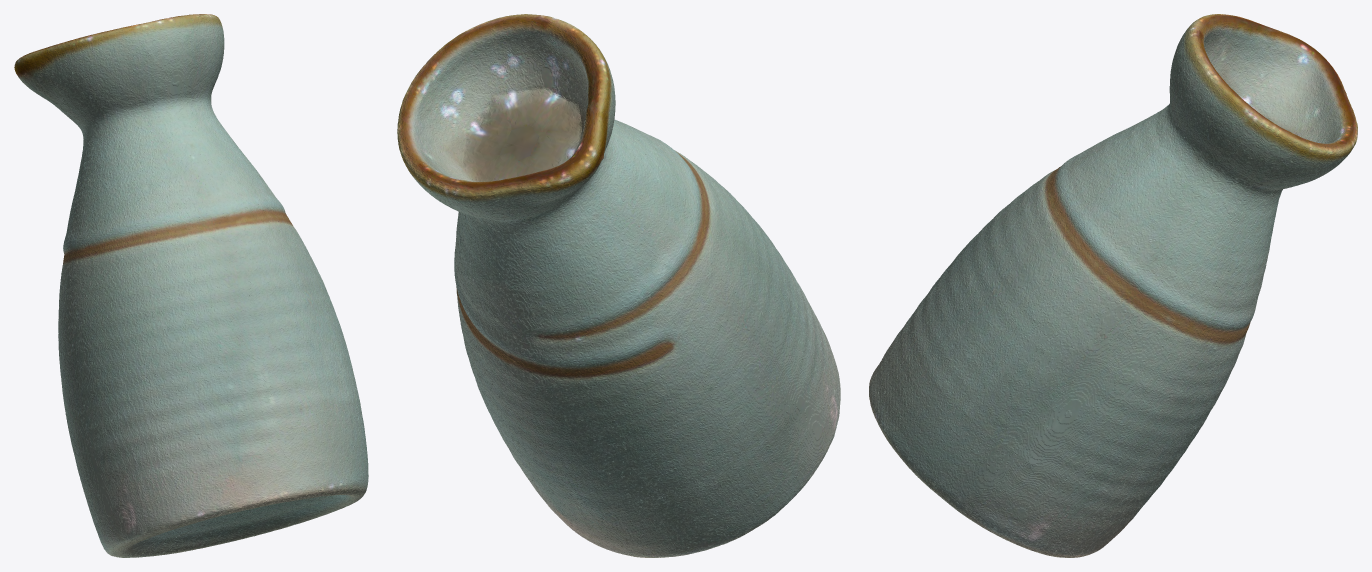
The picture shows the model from 3 angles, left to right: view 1: azimuth 30°, elevation 25°; view 2: azimuth 150°, elevation 25°; view 3: azimuth 270°, elevation 25°; orthographic projection. The views are drawn at different scales.
Parts seen in each view (by area): view 1: Asset3DLoader.sceneRoot; view 2: Asset3DLoader.sceneRoot; view 3: Asset3DLoader.sceneRoot.
Boxes of the visible parts, <box> form: Asset3DLoader.sceneRoot: <box>14,14,368,557</box>; Asset3DLoader.sceneRoot: <box>397,14,840,557</box>; Asset3DLoader.sceneRoot: <box>869,14,1357,557</box>.
Size of the model in its own units: 73.13 by 136 by 117.
1 material, 1 textured.
